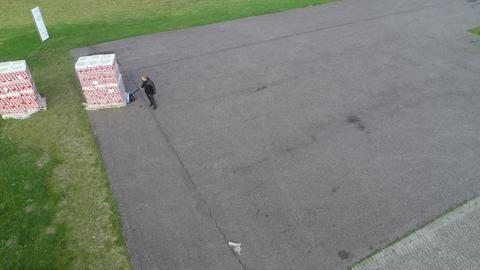RockwoolPallet: (1, 60, 44, 118)
